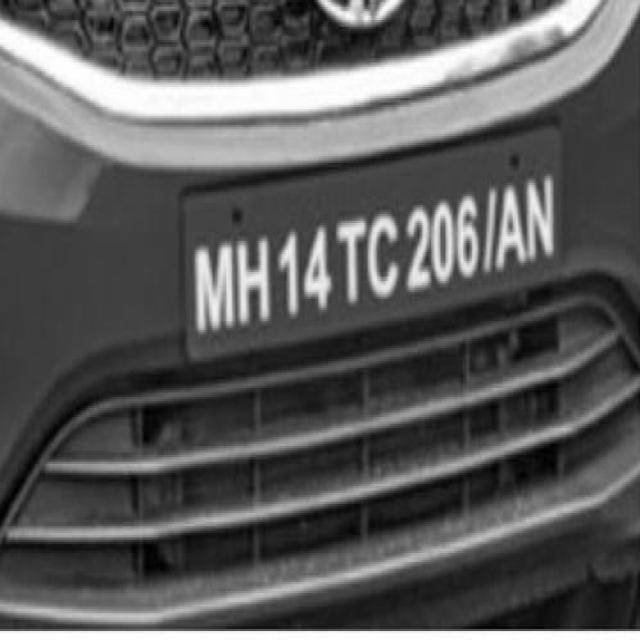license-plate: (182, 156, 563, 344)
